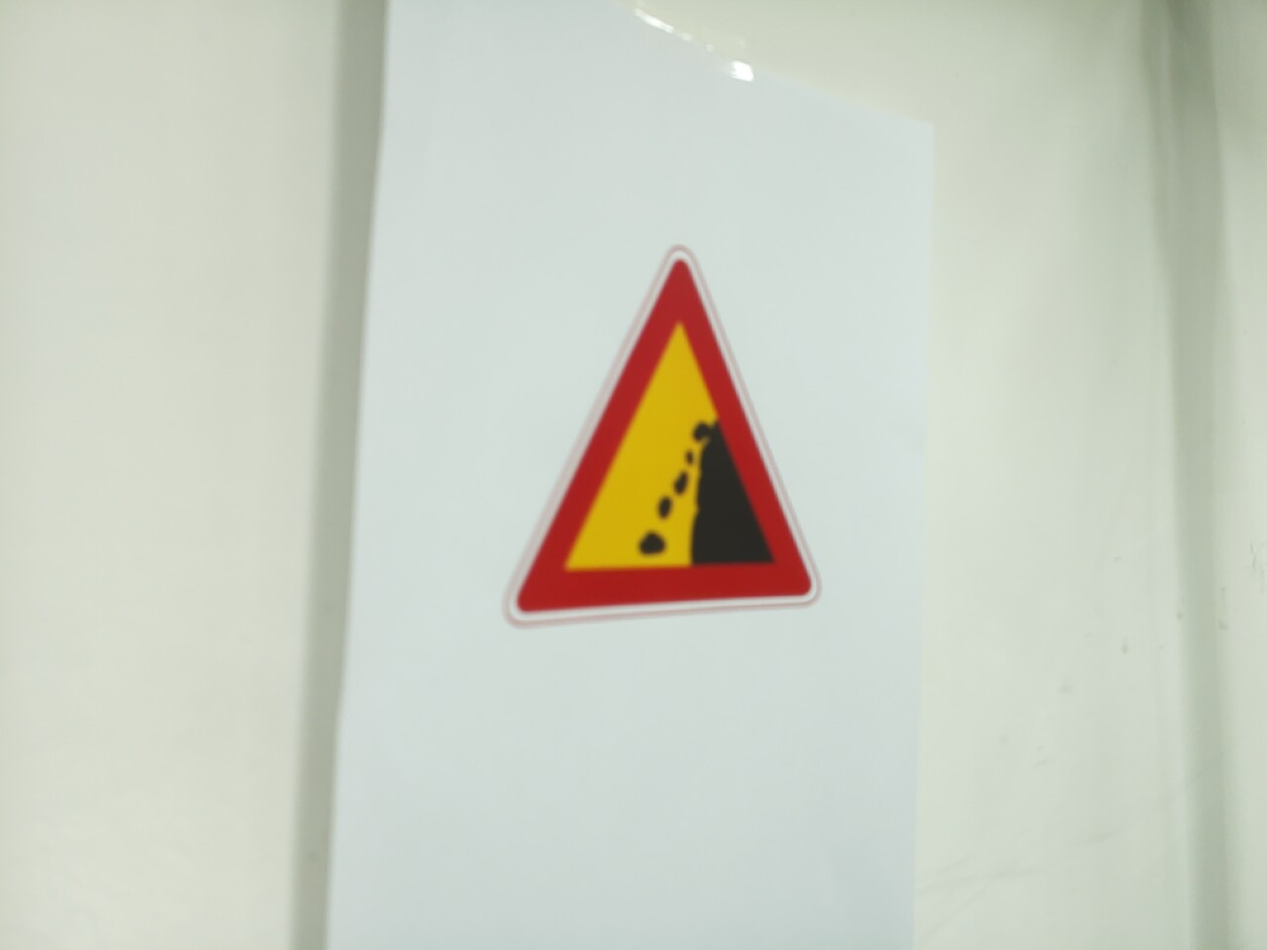falling_rocks: (507, 248, 822, 623)
